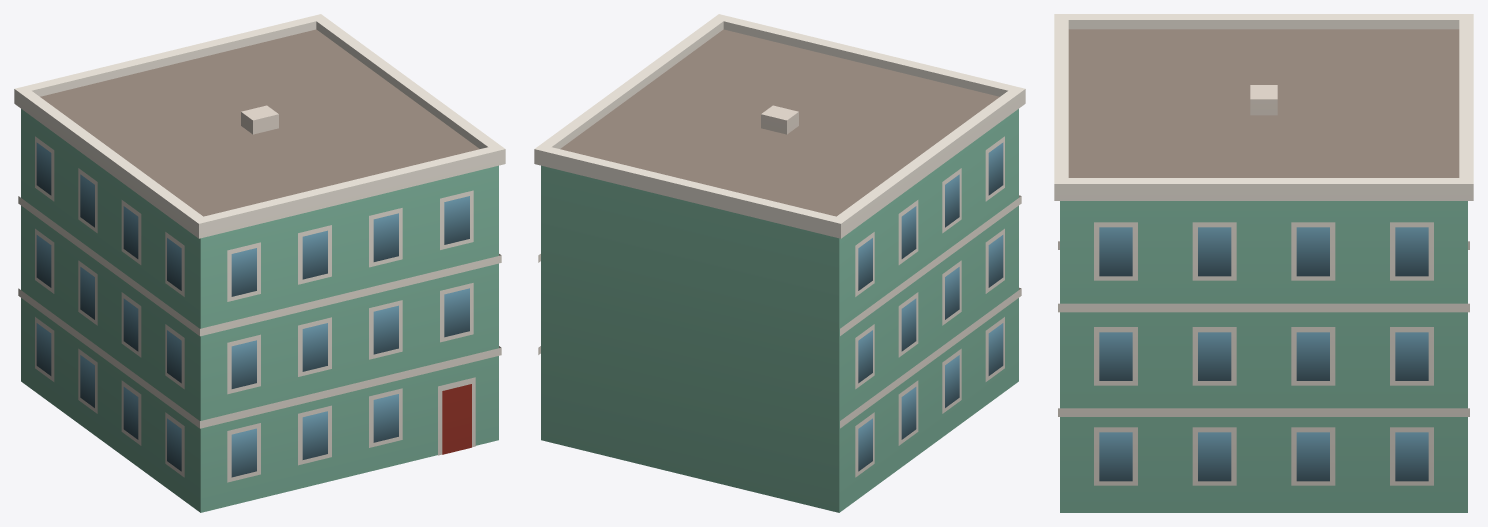
Rendered from beacon_wb0_far.glb.
The picture shows the model from 3 angles, left to right: view 1: azimuth 30°, elevation 25°; view 2: azimuth 150°, elevation 25°; view 3: azimuth 270°, elevation 25°; orthographic projection. The views are drawn at different scales.
Visible parts, largest first — view 1: beacon_wb0_far; view 2: beacon_wb0_far; view 3: beacon_wb0_far.
Boxes of the visible parts, box(x1,y1,x2,y2) form: beacon_wb0_far: box(14, 14, 505, 512); beacon_wb0_far: box(534, 14, 1025, 512); beacon_wb0_far: box(1054, 14, 1473, 512).
Size of the model in its own units: 11.82 by 10.97 by 12.32.
1 material, 1 textured.
